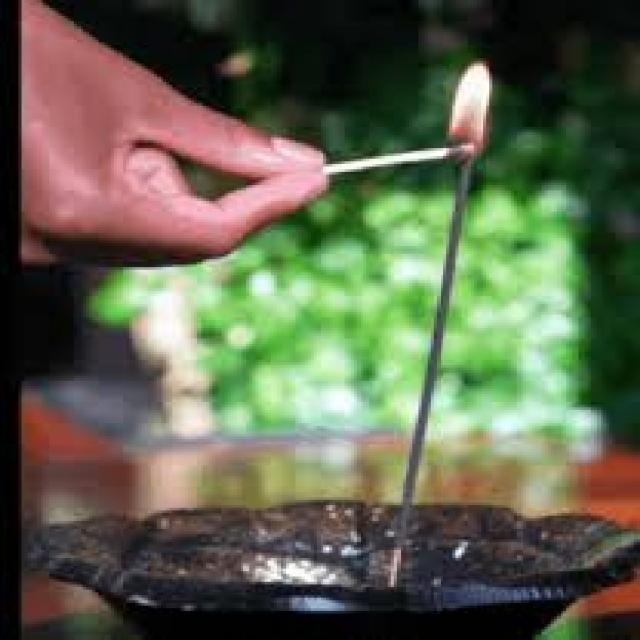Agarbatti: (380, 132, 495, 590)
